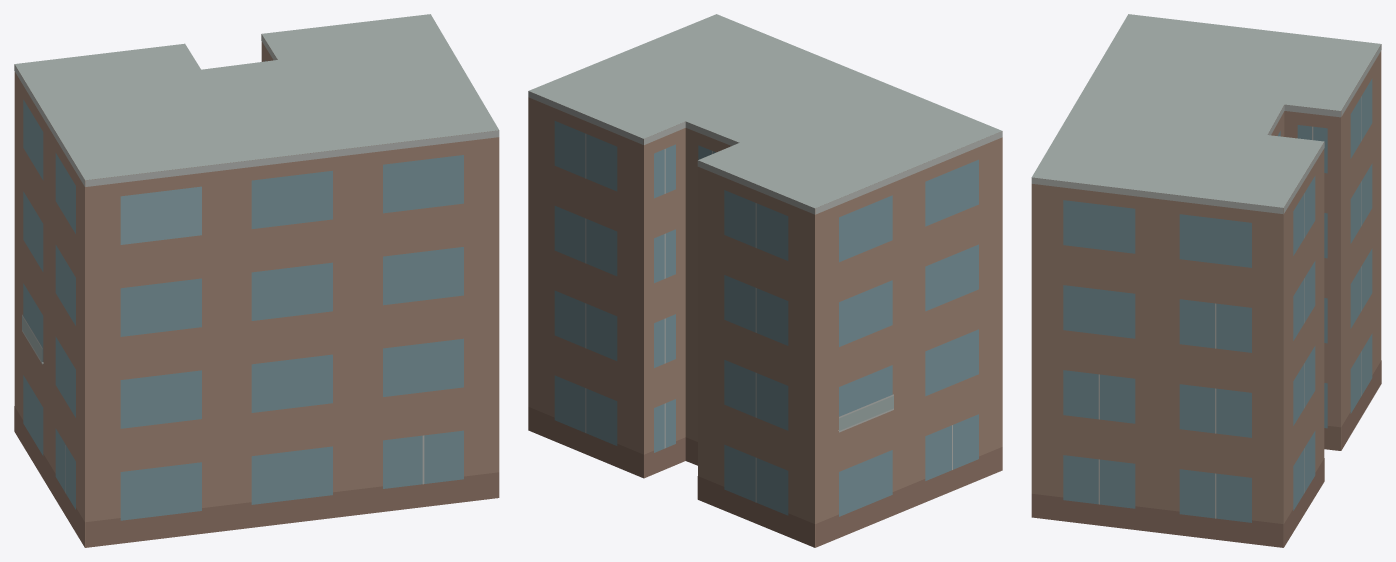
The model's file is survey-upis-32810959.glb.
3 views of the same model, side by side, from view 1: azimuth 30°, elevation 25°; view 2: azimuth 150°, elevation 25°; view 3: azimuth 270°, elevation 25° (orthographic). The views are drawn at different scales.
Parts seen in each view (by area): view 1: survey-upis-32810959.tmp; view 2: survey-upis-32810959.tmp; view 3: survey-upis-32810959.tmp.
Part boxes in pixels (<box>): survey-upis-32810959.tmp: <box>14,14,499,547</box>; survey-upis-32810959.tmp: <box>528,14,1002,547</box>; survey-upis-32810959.tmp: <box>1031,14,1381,547</box>.
Size of the model in its own units: 16.03 by 13.1 by 12.23.
